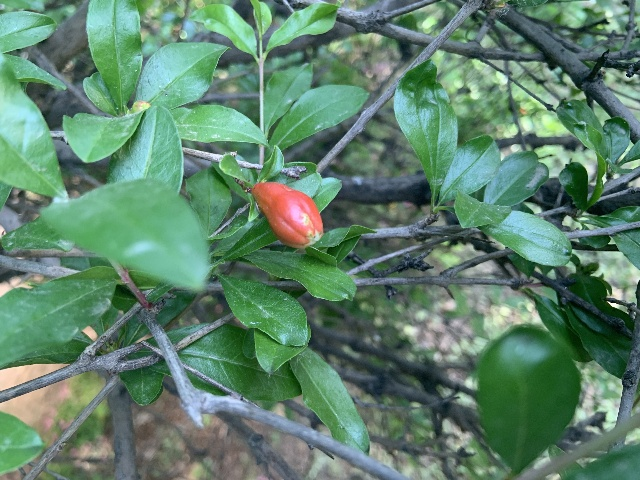bud: (250, 181, 322, 248)
